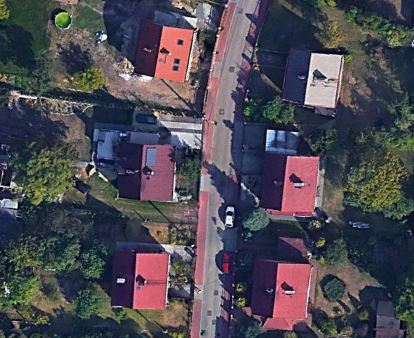family house: (244, 255, 316, 331), (257, 149, 327, 219), (279, 45, 350, 113), (129, 19, 199, 86), (114, 141, 183, 204), (110, 249, 172, 311)
